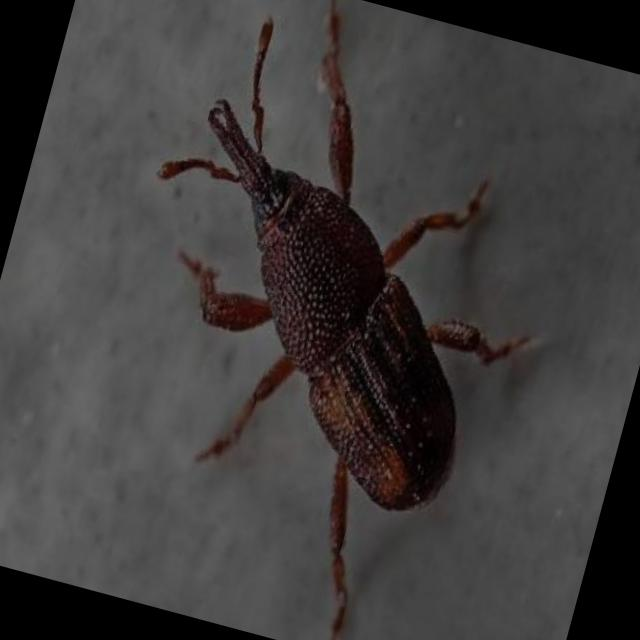rice-bug: (112, 90, 538, 546)
